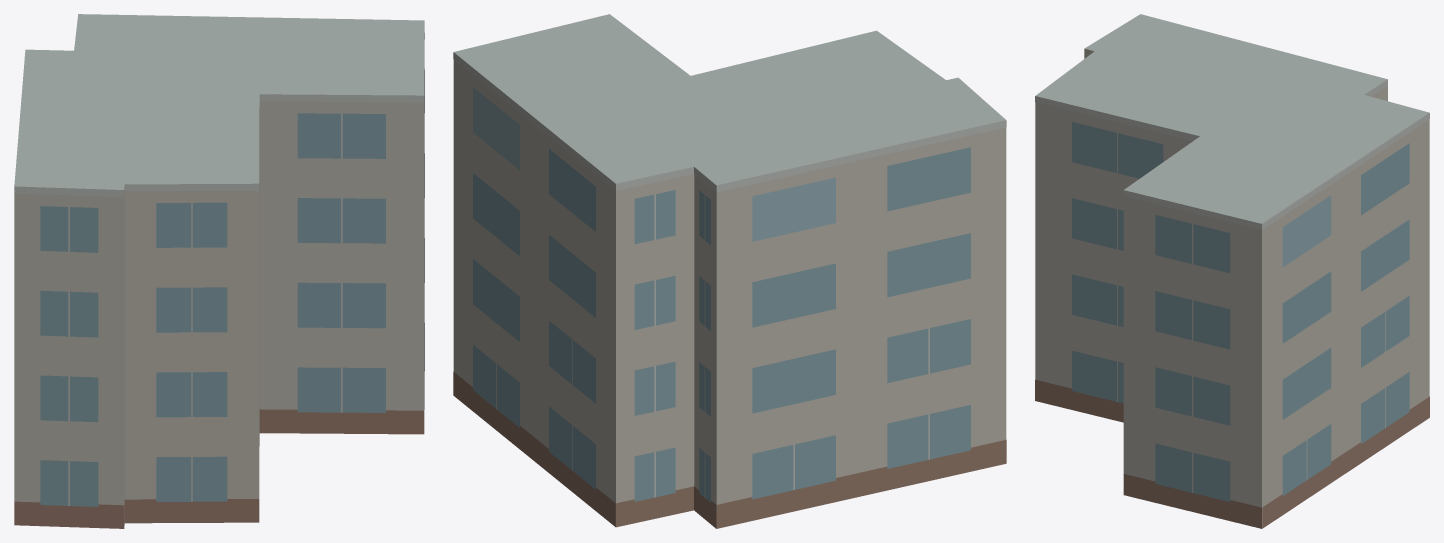
File: survey-upis-32864849.glb
3 views of the same model, side by side, from view 1: azimuth 30°, elevation 25°; view 2: azimuth 150°, elevation 25°; view 3: azimuth 270°, elevation 25° (orthographic). The views are drawn at different scales.
Parts seen in each view (by area): view 1: survey-upis-32864849.tmp; view 2: survey-upis-32864849.tmp; view 3: survey-upis-32864849.tmp.
Part boxes in pixels (x1,y1,x2,y2): survey-upis-32864849.tmp: (14,14,424,528); survey-upis-32864849.tmp: (453,14,1006,528); survey-upis-32864849.tmp: (1035,14,1429,528).
Size of the model in its own units: 17.28 by 11.7 by 13.73.
